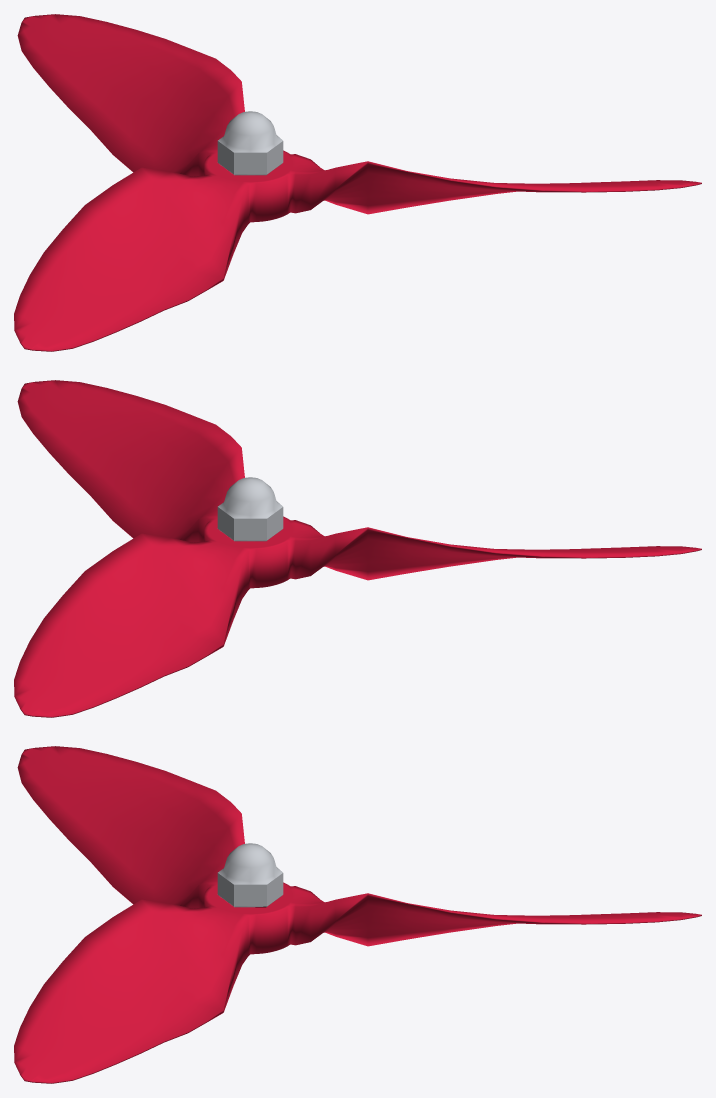
The model's file is HQProp_5x45x3_V2.fbx.
3 renders of one model, top to bottom at view 1: azimuth 30°, elevation 25°; view 2: azimuth 150°, elevation 25°; view 3: azimuth 270°, elevation 25°, orthographic.
Visible parts, largest first — view 1: R2_PROP_HQProp_5x45x3_V2, R2_NUT_HQProp_5x45x3_V2; view 2: R2_PROP_HQProp_5x45x3_V2, R2_NUT_HQProp_5x45x3_V2; view 3: R2_PROP_HQProp_5x45x3_V2, R2_NUT_HQProp_5x45x3_V2.
Part boxes in pixels (x1=…): R2_PROP_HQProp_5x45x3_V2: x1=14, y1=14, x2=701, y2=351; R2_NUT_HQProp_5x45x3_V2: x1=217, y1=111, x2=283, y2=175; R2_PROP_HQProp_5x45x3_V2: x1=14, y1=380, x2=701, y2=717; R2_NUT_HQProp_5x45x3_V2: x1=217, y1=477, x2=283, y2=541; R2_PROP_HQProp_5x45x3_V2: x1=14, y1=746, x2=701, y2=1083; R2_NUT_HQProp_5x45x3_V2: x1=217, y1=843, x2=283, y2=907.
Size of the model in its own units: 0.11 by 0.0181 by 0.0968.
Materials: 1 (1 with a texture image).
